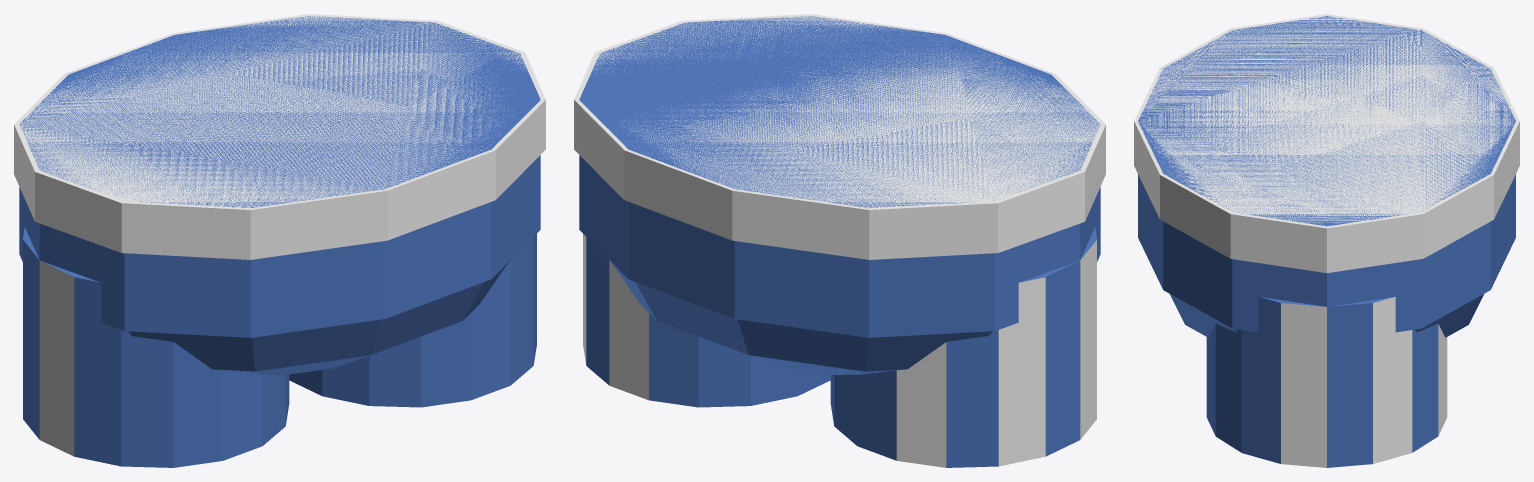
File: pants_pe_shorts.glb
The picture shows the model from 3 angles, left to right: view 1: azimuth 30°, elevation 25°; view 2: azimuth 150°, elevation 25°; view 3: azimuth 270°, elevation 25°; orthographic projection. The views are drawn at different scales.
Visible parts, largest first — view 1: Torso, LegL, LegR; view 2: Torso, LegL, LegR; view 3: Torso, LegR.
Boxes of the visible parts, box(x1,y1,x2,y2) form: Torso: box(14, 14, 545, 374); LegL: box(23, 227, 289, 467); LegR: box(289, 234, 536, 407); Torso: box(574, 14, 1105, 374); LegL: box(830, 227, 1096, 467); LegR: box(583, 234, 830, 407); Torso: box(1134, 14, 1519, 337); LegR: box(1206, 296, 1447, 467).
Bounding box in the file's own units: 0.514 × 0.27 × 0.3906.
